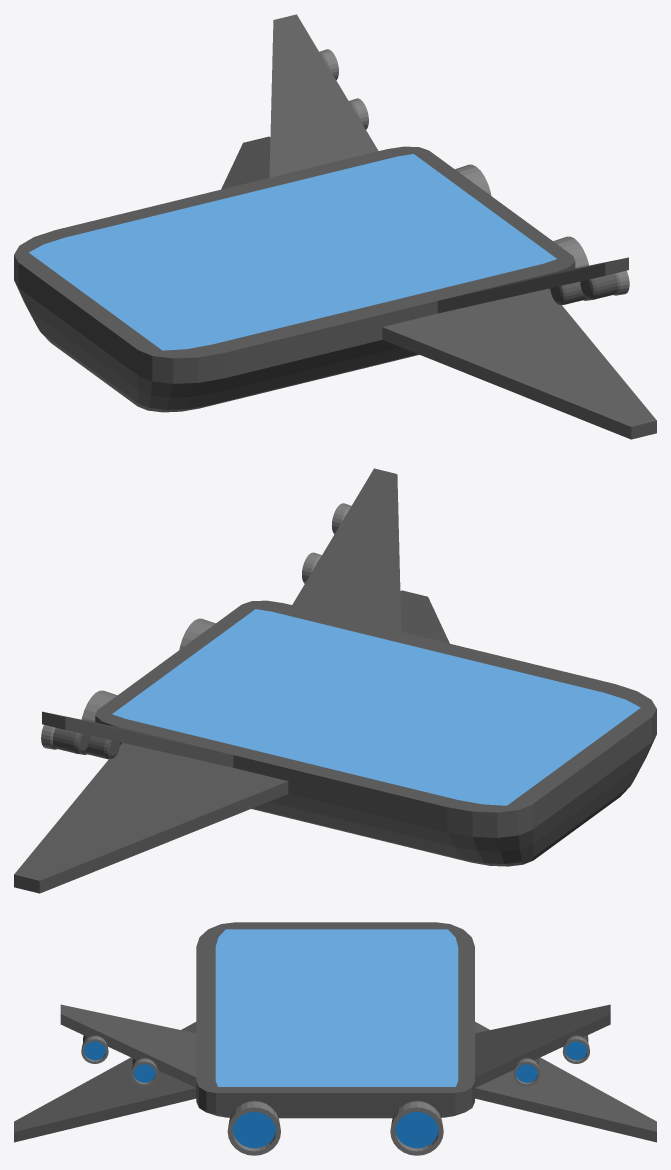
Rendered from Plataforma.fbx.
3 views of the same model, one above another, from view 1: azimuth 30°, elevation 25°; view 2: azimuth 150°, elevation 25°; view 3: azimuth 270°, elevation 25° (orthographic). The views are drawn at different scales.
Parts seen in each view (by area): view 1: Plataforma; view 2: Plataforma; view 3: Plataforma.
Part boxes in pixels (x1,y1,x2,y2): Plataforma: (14, 14, 656, 439); Plataforma: (14, 468, 656, 893); Plataforma: (14, 922, 656, 1155).
Size of the model in its own units: 14187 by 4707 by 21324.
1 material, 1 textured.
